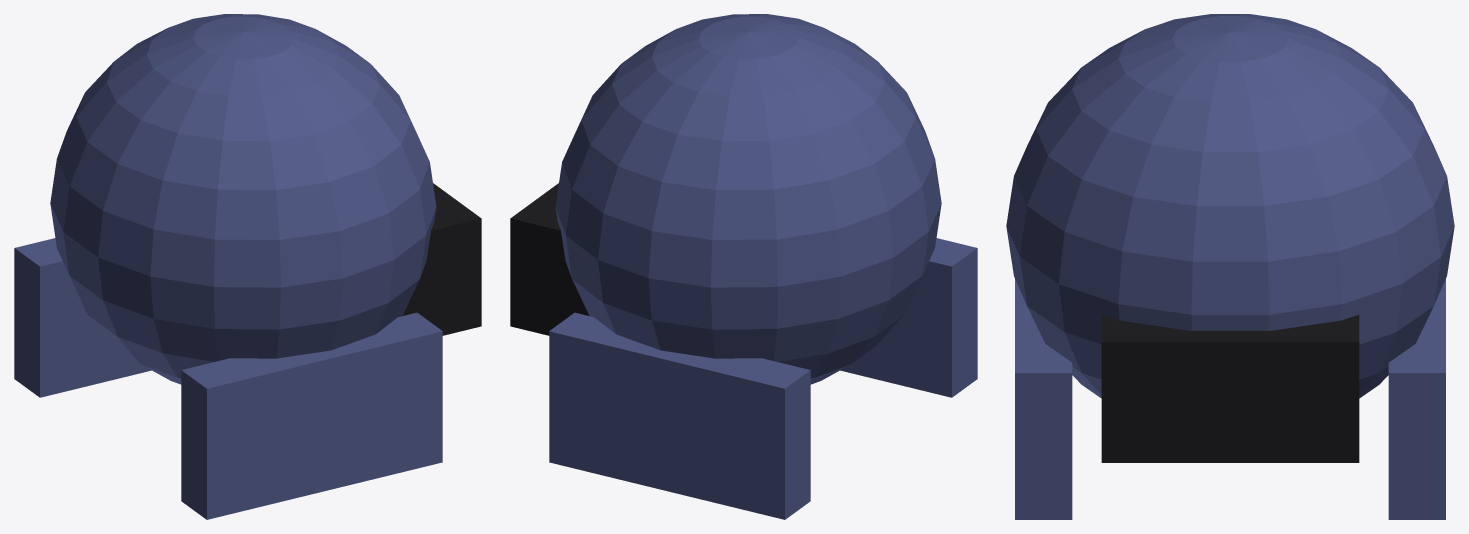
File: SM_Hat_Helmet.fbx
3 views of the same model, side by side, from view 1: azimuth 30°, elevation 25°; view 2: azimuth 150°, elevation 25°; view 3: azimuth 270°, elevation 25° (orthographic). The views are drawn at different scales.
Visible parts, largest first — view 1: SM_Hat_Helmet; view 2: SM_Hat_Helmet; view 3: SM_Hat_Helmet.
Part boxes in pixels (x1,y1,x2,y2): SM_Hat_Helmet: [14, 14, 481, 519]; SM_Hat_Helmet: [510, 14, 977, 519]; SM_Hat_Helmet: [1006, 14, 1454, 519].
Bounding box in the file's own units: 23.28 × 23.52 × 24.95.
